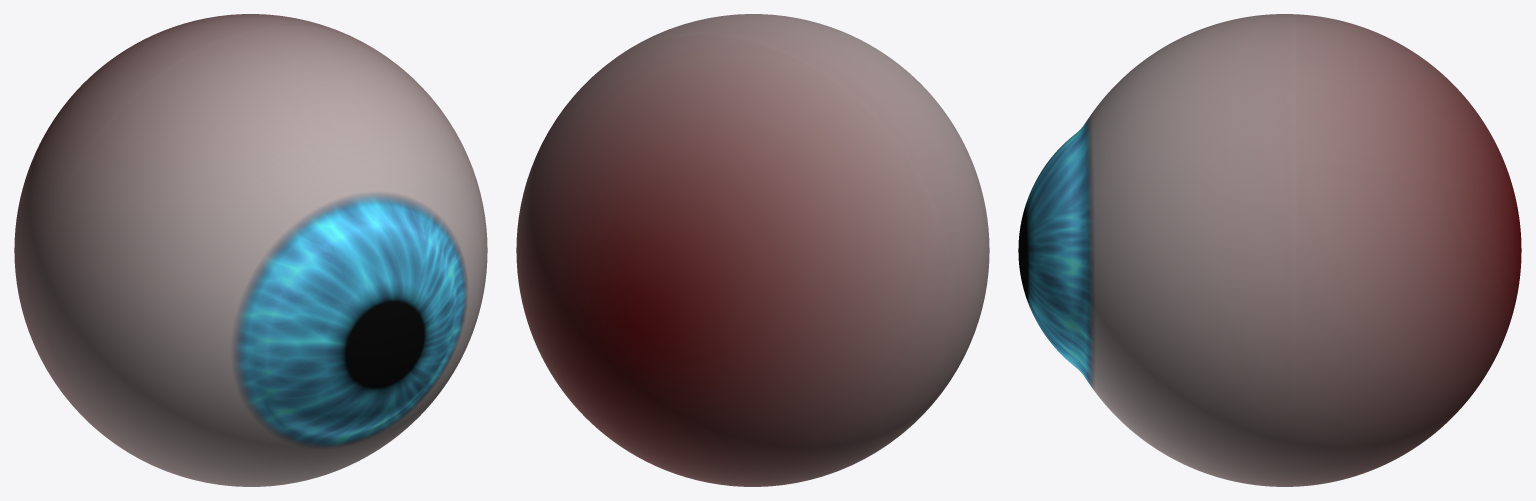
File: Eye_Model.obj
3 views of the same model, side by side, from view 1: azimuth 30°, elevation 25°; view 2: azimuth 150°, elevation 25°; view 3: azimuth 270°, elevation 25° (orthographic).
Visible parts, largest first — view 1: Eye_Sphere.003; view 2: Eye_Sphere.003; view 3: Eye_Sphere.003.
Boxes of the visible parts, bbox=[...] form: Eye_Sphere.003: bbox=[14, 14, 487, 486]; Eye_Sphere.003: bbox=[516, 14, 989, 486]; Eye_Sphere.003: bbox=[1018, 14, 1521, 486].
Size of the model in its own units: 2 by 2 by 2.12.
Materials: 1 (1 with a texture image).
